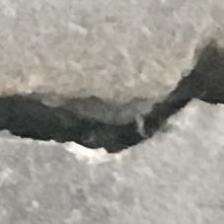Crack: (0, 37, 224, 189)
